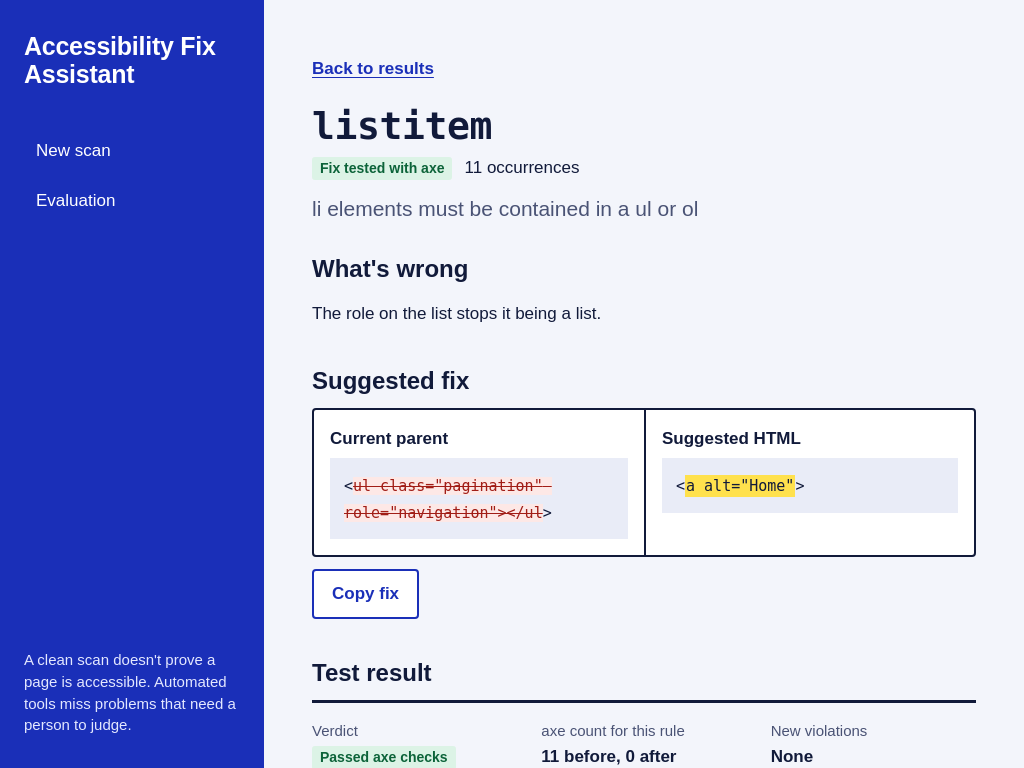
Scenario: copy button › explains when the browser blocks copying
This screenshot has width=1024, height=768.
Step 1. Click the button "Copy fix" → (366, 594), box [312,569,419,619]
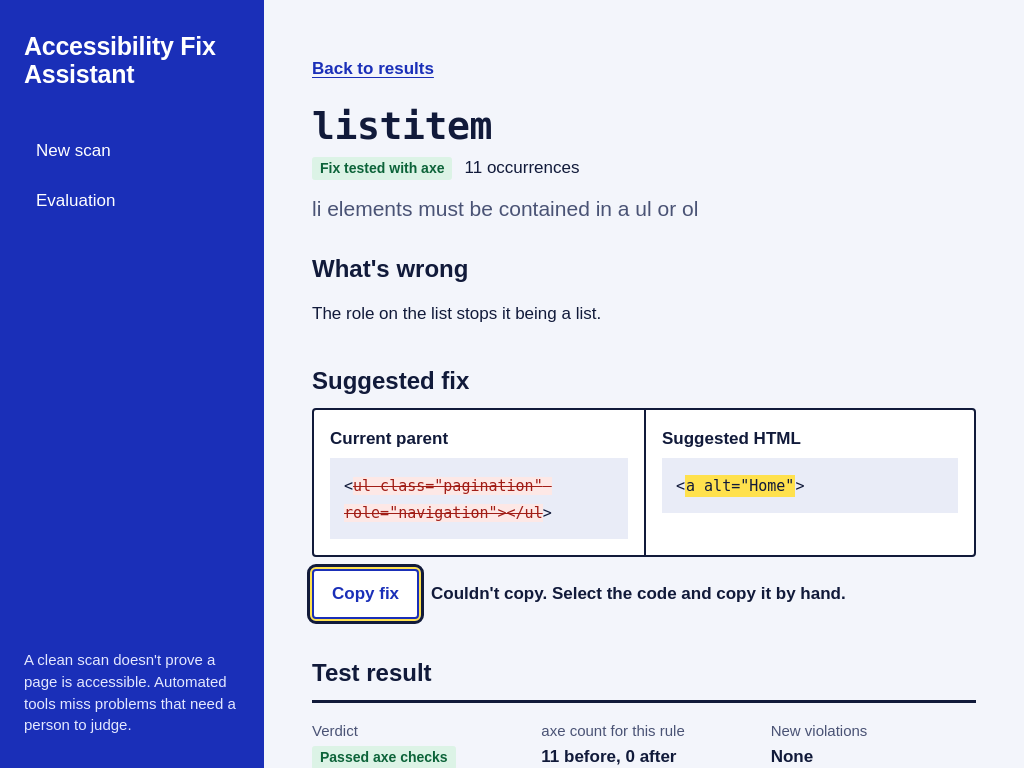
Expected: the text "Couldn't copy. Select the code and copy it by hand." is shown, [431,581,846,607]
